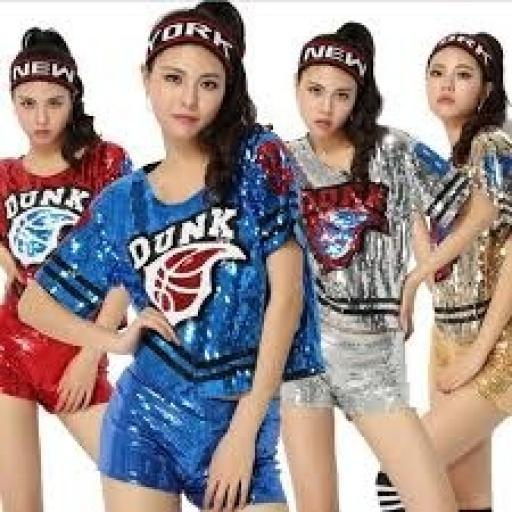dancing: (16, 0, 316, 510), (0, 22, 139, 510)
